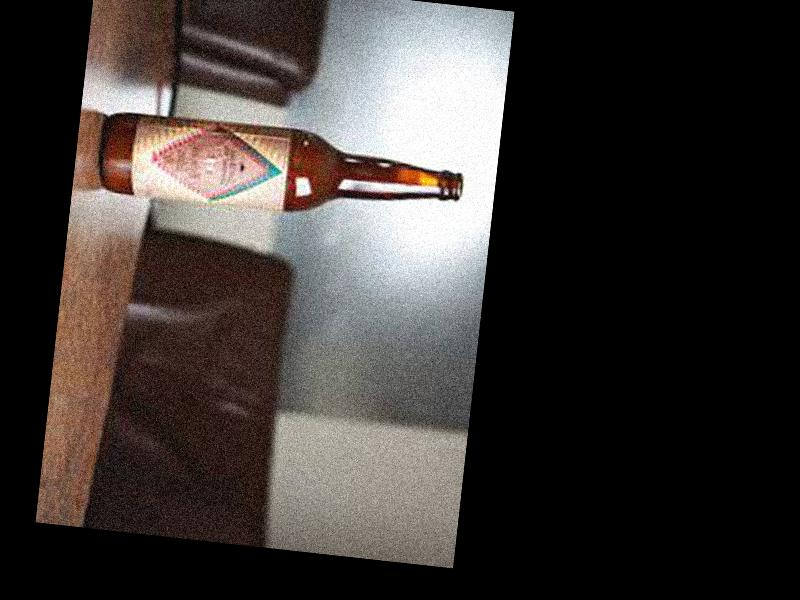Beer: (97, 109, 464, 228)
